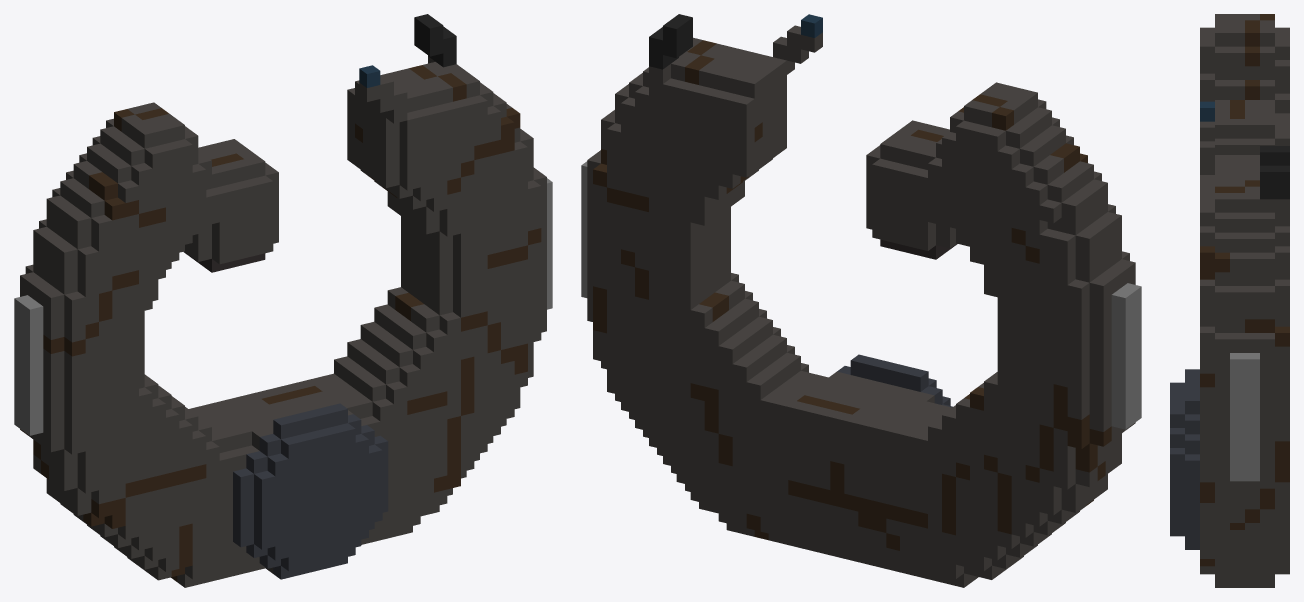
File: Prometheus.fbx
3 renders of one model, left to right at view 1: azimuth 30°, elevation 25°; view 2: azimuth 150°, elevation 25°; view 3: azimuth 270°, elevation 25°, orthographic. The views are drawn at different scales.
Visible parts, largest first — view 1: ObjObject; view 2: ObjObject; view 3: ObjObject.
Boxes of the visible parts, x1=… form: ObjObject: x1=14, y1=14, x2=552, y2=587; ObjObject: x1=581, y1=14, x2=1141, y2=587; ObjObject: x1=1170, y1=14, x2=1289, y2=587.
Size of the model in its own units: 390 by 340 by 80.
1 material, 1 textured.
